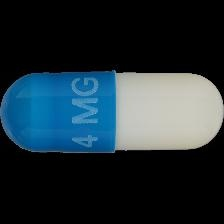0591-2789: (0, 0, 224, 224)
